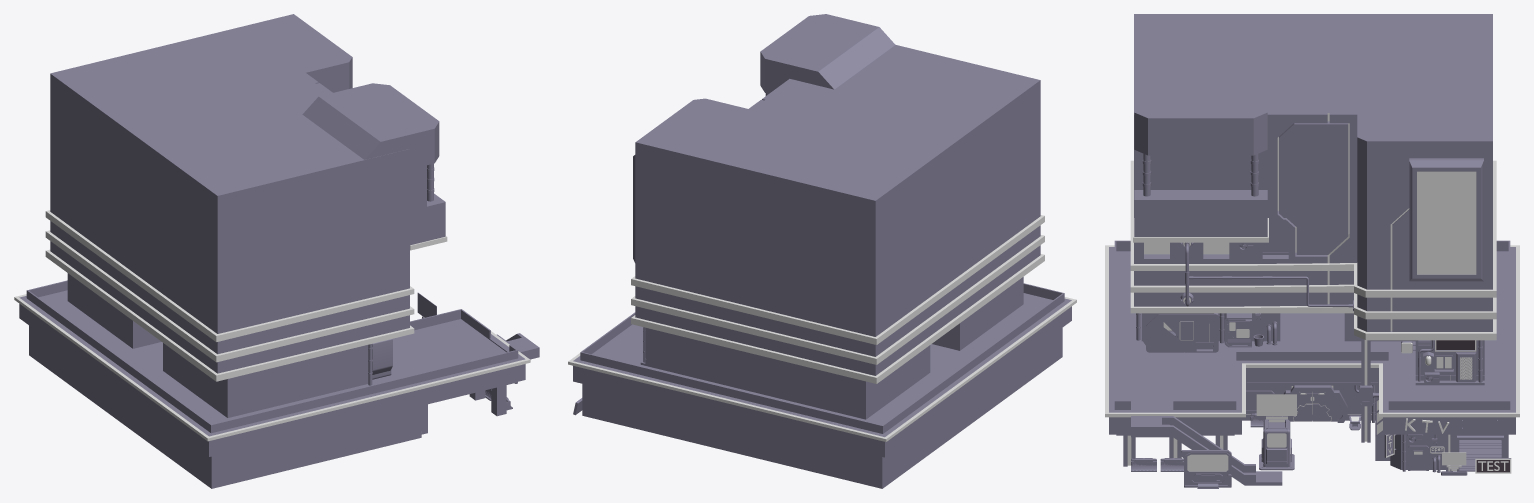
3 views of the same model, side by side, from view 1: azimuth 30°, elevation 25°; view 2: azimuth 150°, elevation 25°; view 3: azimuth 270°, elevation 25° (orthographic). The views are drawn at different scales.
Visible parts, largest first — view 1: Cube.219; view 2: Cube.219; view 3: Cube.219.
Part boxes in pixels (left/top/right/bottom): Cube.219: left=14, top=14, right=539, bottom=488; Cube.219: left=568, top=14, right=1076, bottom=488; Cube.219: left=1105, top=14, right=1519, bottom=488.
Bounding box in the file's own units: 3315 × 2700 × 3174.
